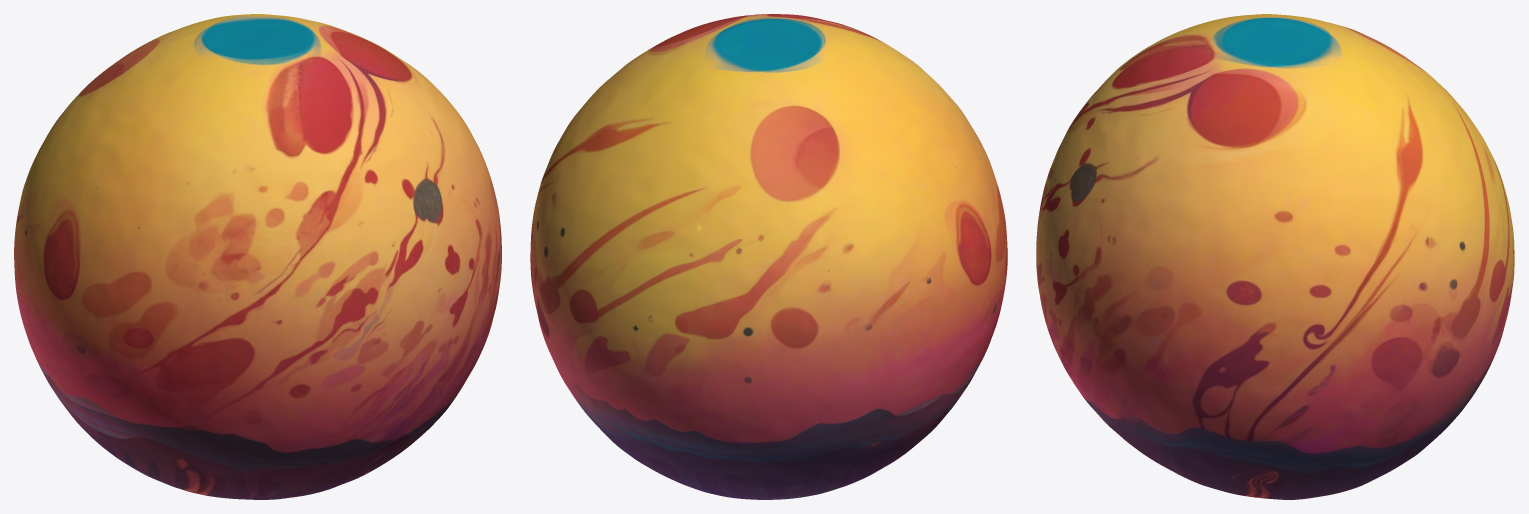
The model's file is Celestial_Dreams.glb.
The picture shows the model from 3 angles, left to right: view 1: azimuth 30°, elevation 25°; view 2: azimuth 150°, elevation 25°; view 3: azimuth 270°, elevation 25°; orthographic projection. The views are drawn at different scales.
Bounding box in the file's own units: 1.98 × 1.99 × 1.98.
Materials: 1 (1 with a texture image).
